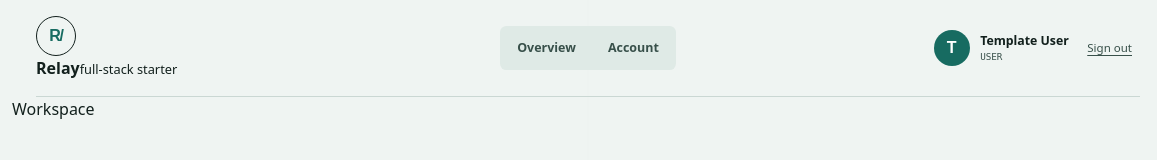
Test: WorkspaceShell session control › shows an actionable failure without navigating and permits retry
Click the button "Sign out" at coordinates (1110, 48), box 1079,31 -> 1140,65
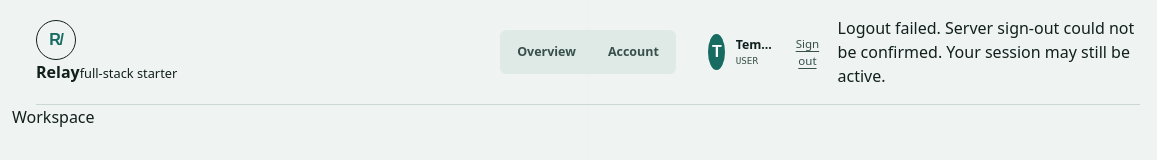
Result: the message shows "Server sign-out could not be confirmed" at 838,17 -> 1134,87
Click the button "Sign out" at coordinates (807, 52), box 788,27 -> 827,77
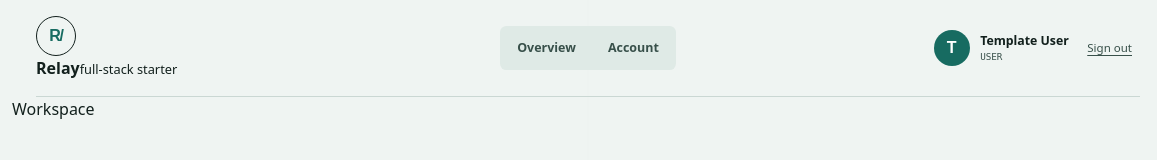
Result: the message is gone
